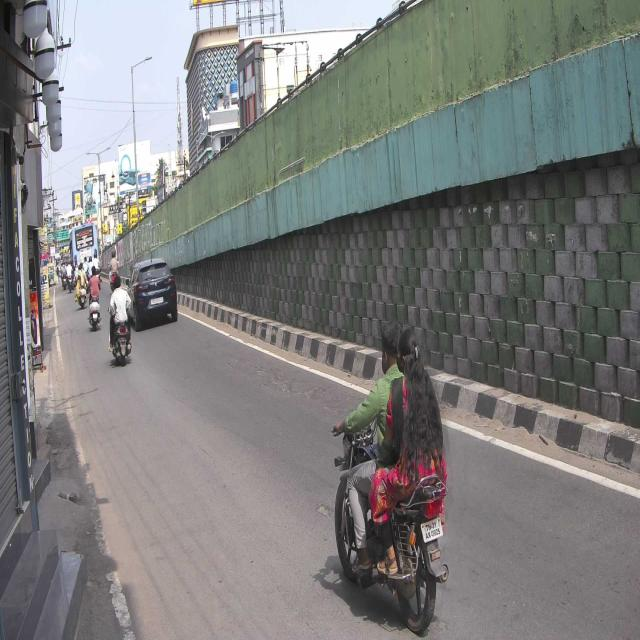double_rider: (332, 319, 448, 636)
